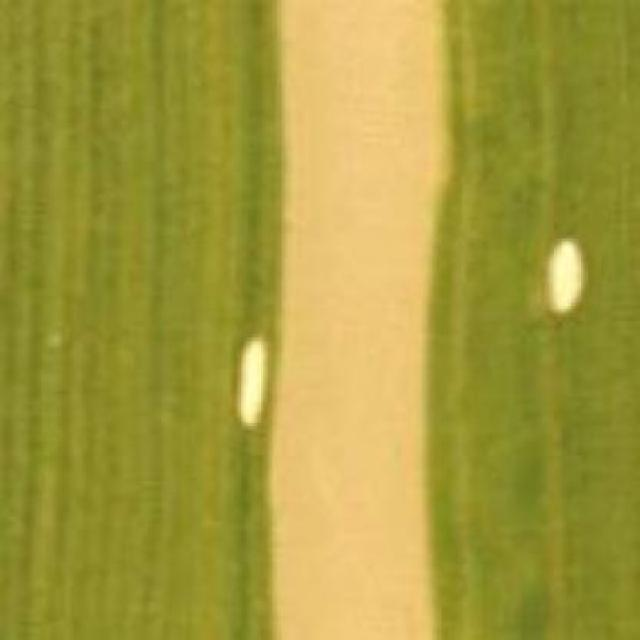whorl-maggot: (536, 231, 593, 332), (228, 332, 272, 434)
